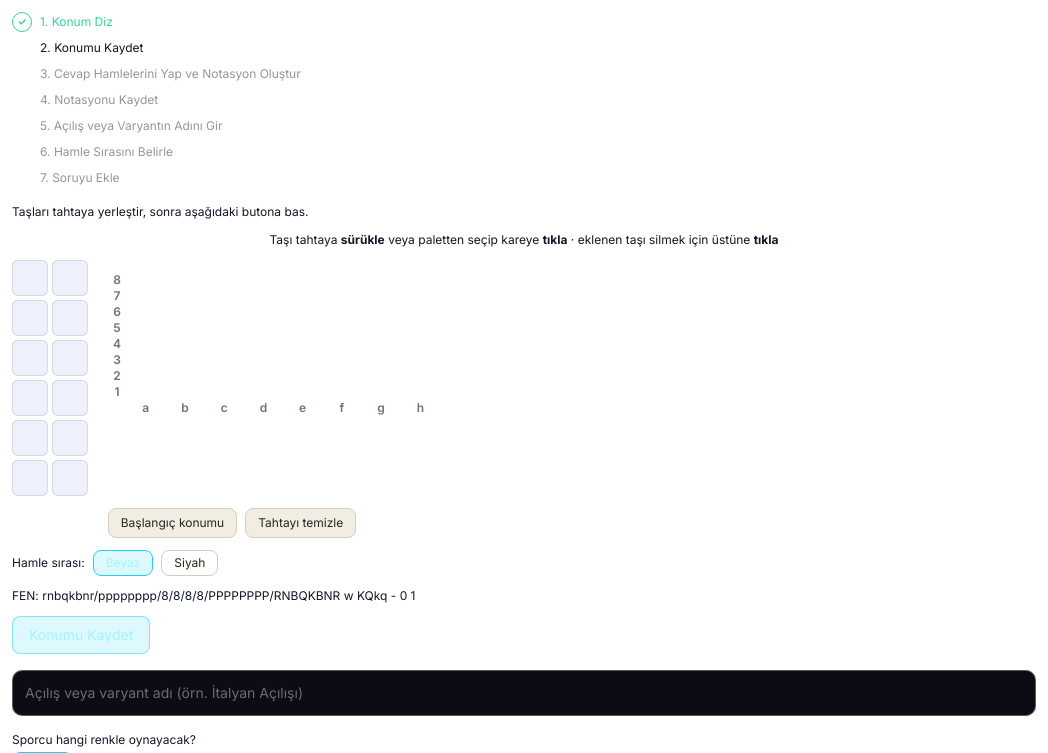
Test: TeoriPratigiFields › "Konumu Kaydet" tıklanınca kayıt fazına geçer — Notasyon Tablosu görünür, hamle yokken "Notasyonu Kaydet" devre dışı
The width and height of the screenshot is (1048, 753).
Click the button "Konumu Kaydet": (81, 635) [12,616,150,654]
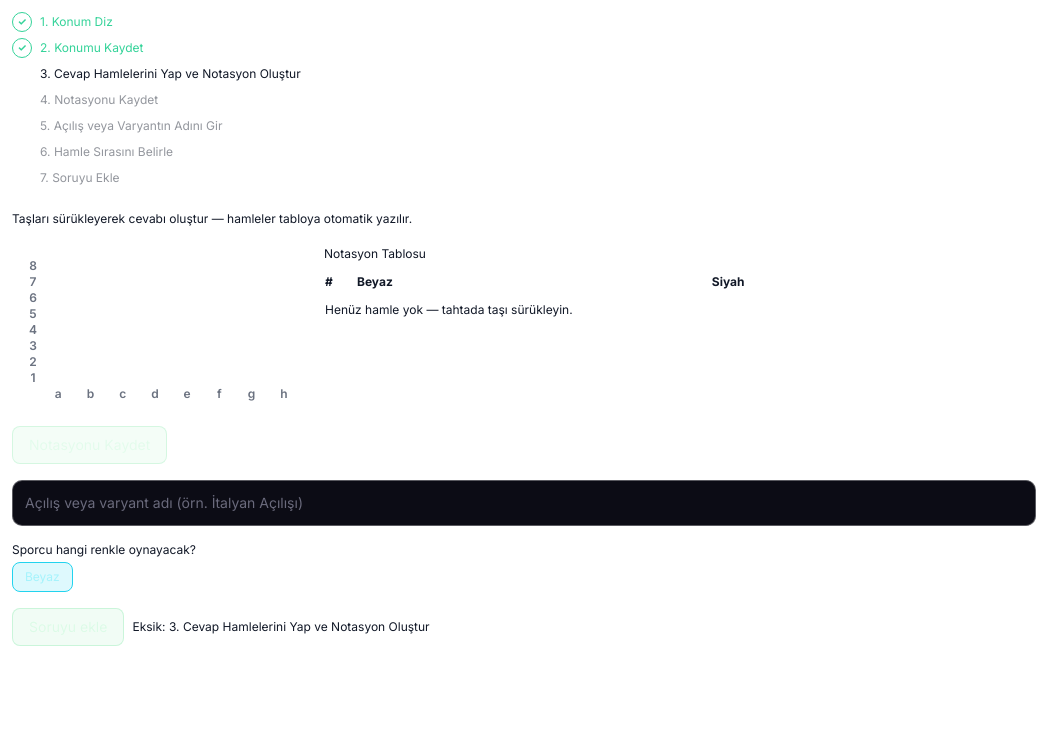
Expected: the text "Notasyon Tablosu" is shown, [324,246,426,261]
Expected: the button "Notasyonu Kaydet" is disabled, [12,426,167,464]
